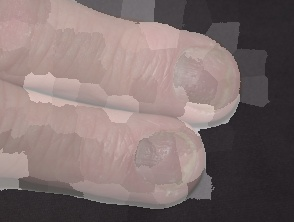Nail_psoriasis: (146, 20, 255, 135), (112, 107, 216, 213)
